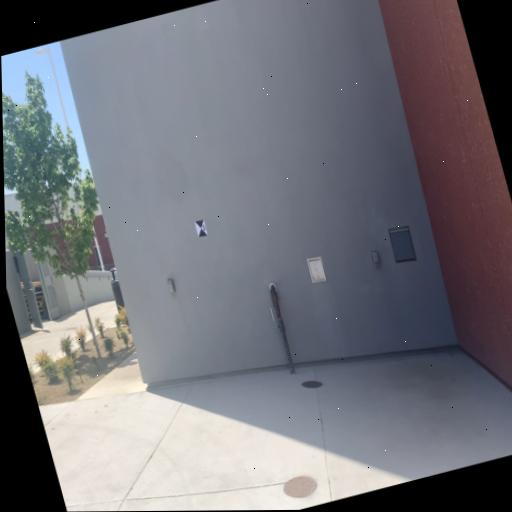target5: (194, 219, 208, 238)
